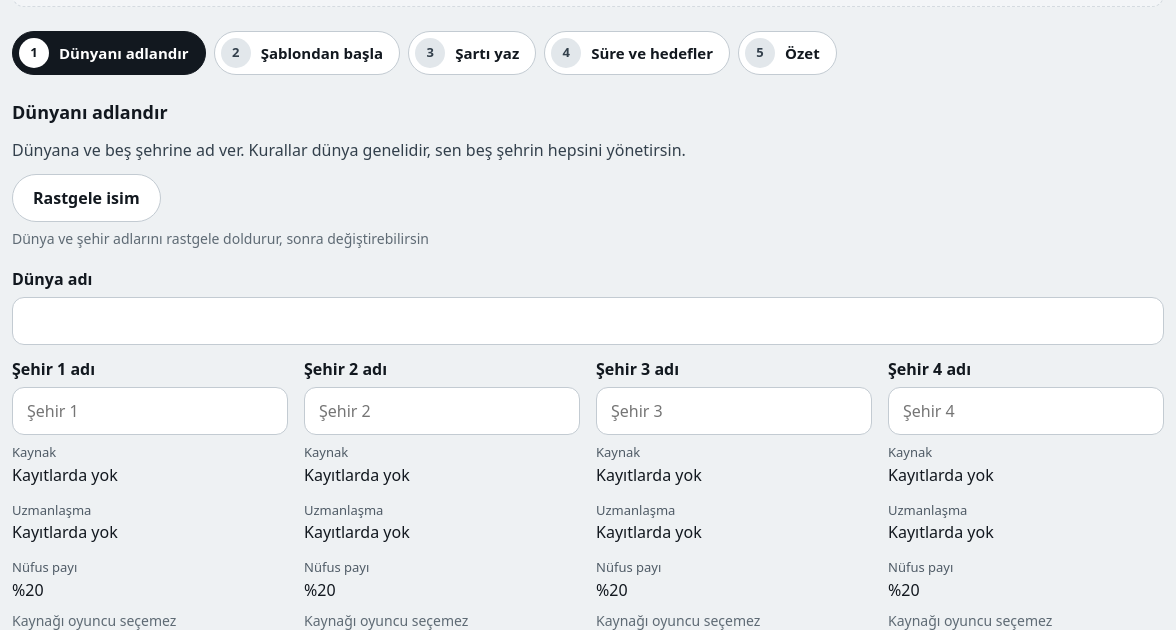
Test: Başlat: sunucu sınırları › busy_preparing_ozel_metin_gosterir
Type "D" into the field labelled "Dünya adı".
click(588, 321); type("D")  # box [13,297,1163,345]
(page scrolled)
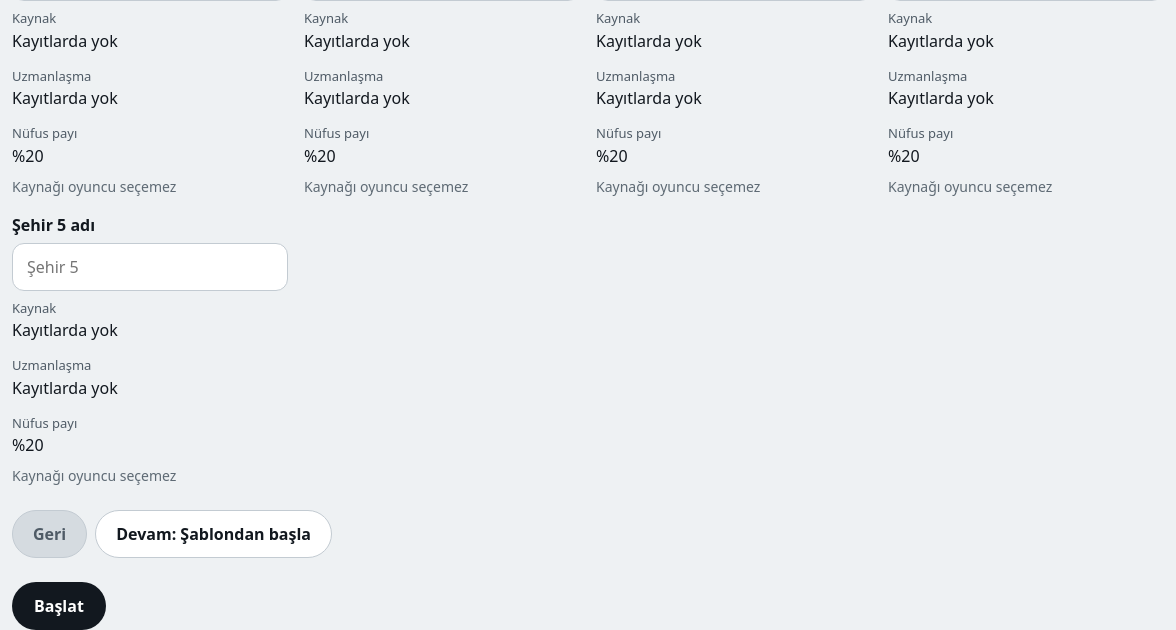
Click the button "Başlat".
click(59, 606)  # box [12,582,106,629]
(page scrolled)
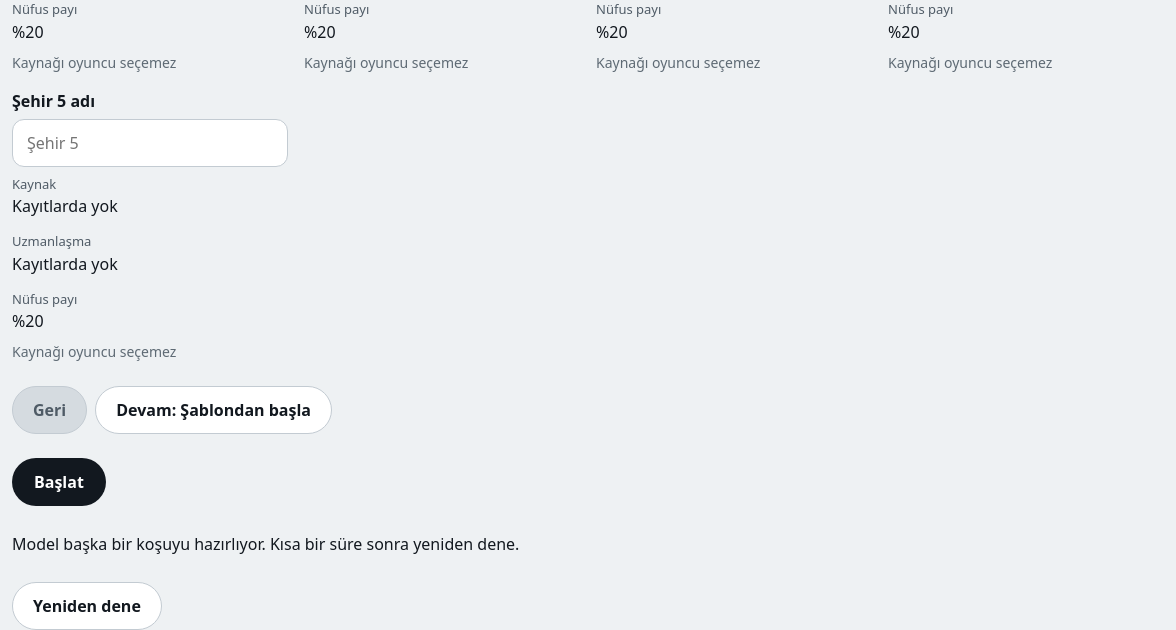
Expected: the message shows "Model başka bir koşuyu hazırlıyor. Kısa bir süre sonra yeniden dene.", [12,533,519,555]
